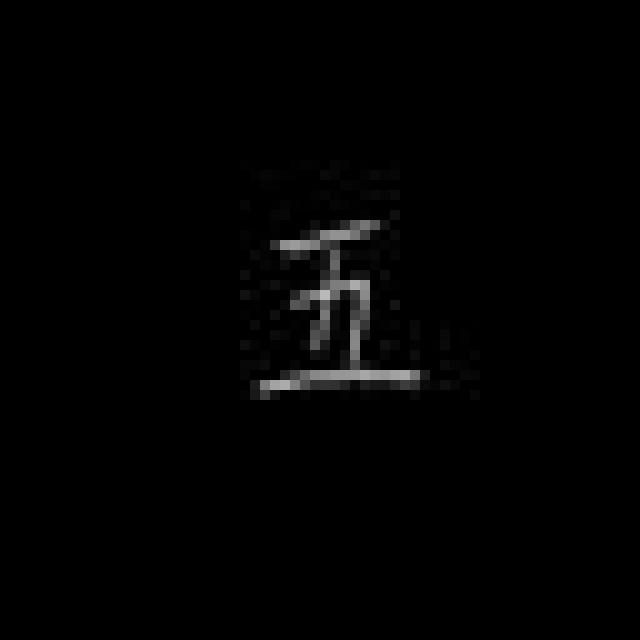5 -five-: (253, 210, 429, 407)
